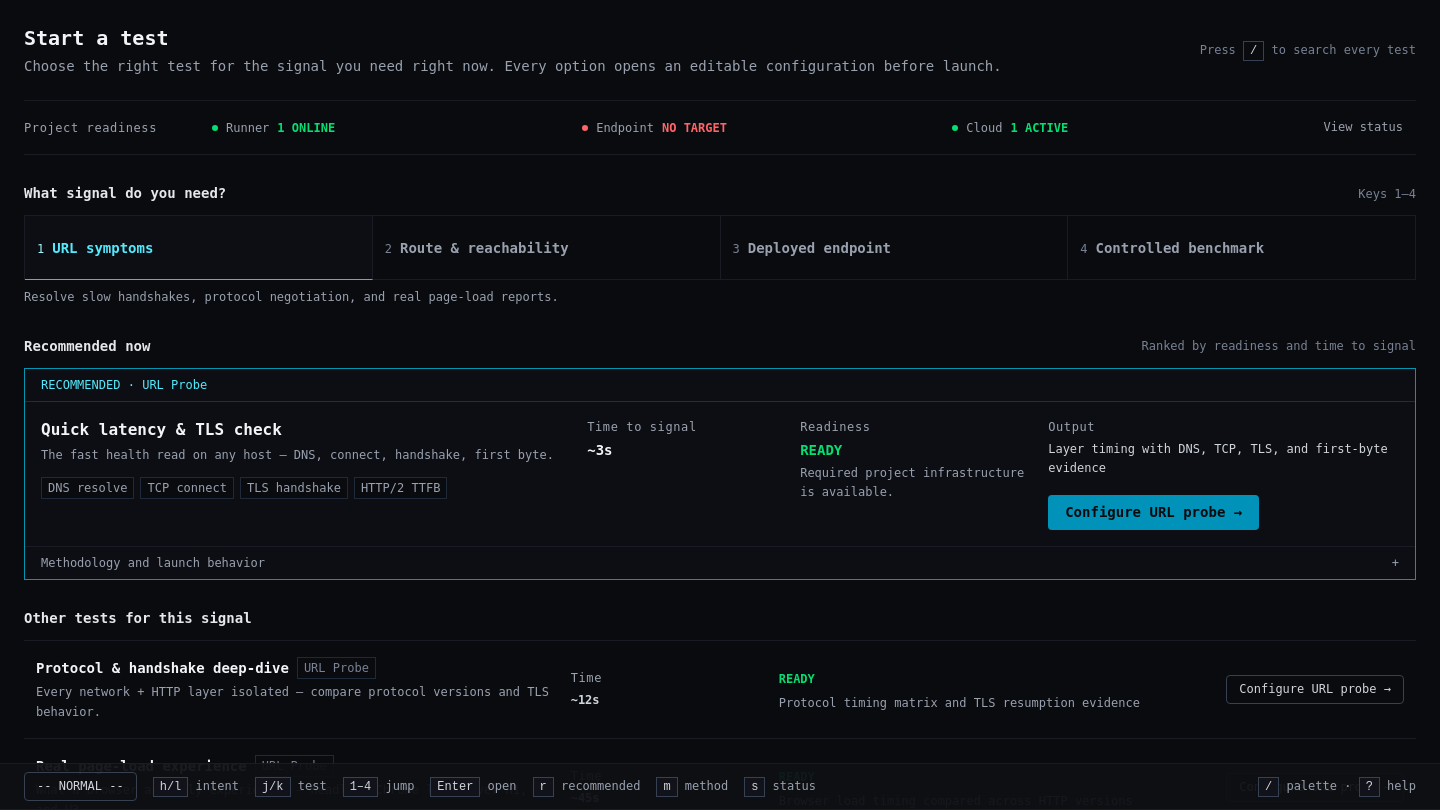
Test: ScenariosPage triage console › shows readiness details and exact repair actions
Click the tab "3Deployed endpoint" at (819, 248), box [720,216,1068,280]
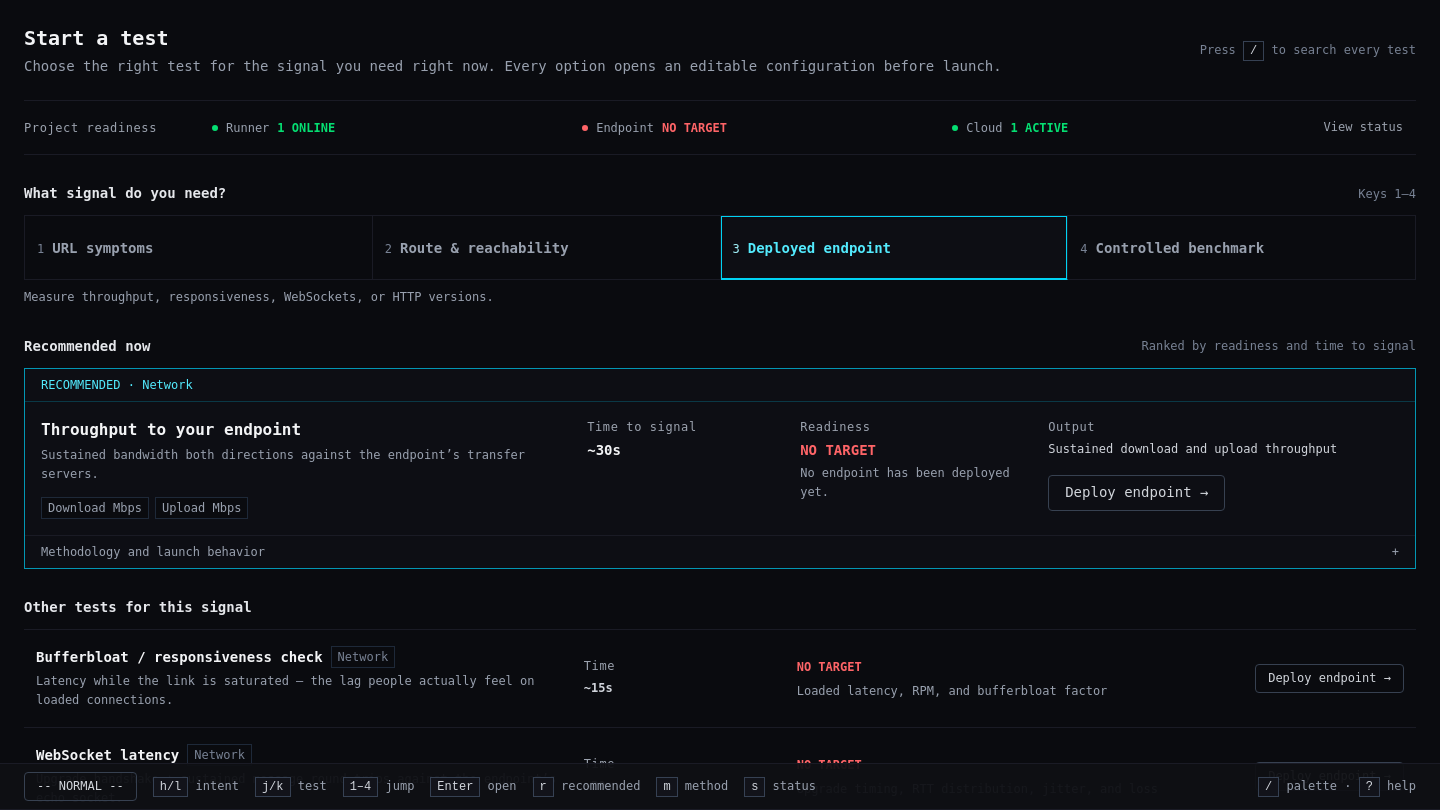
Result: the link "Deploy endpoint →" below "Sustained download and upload throughput" has attribute href="/projects/p-1/vms" at [1048,475,1226,510]
Click the button "View status" at (1363, 128), box [1310,113,1416,142]
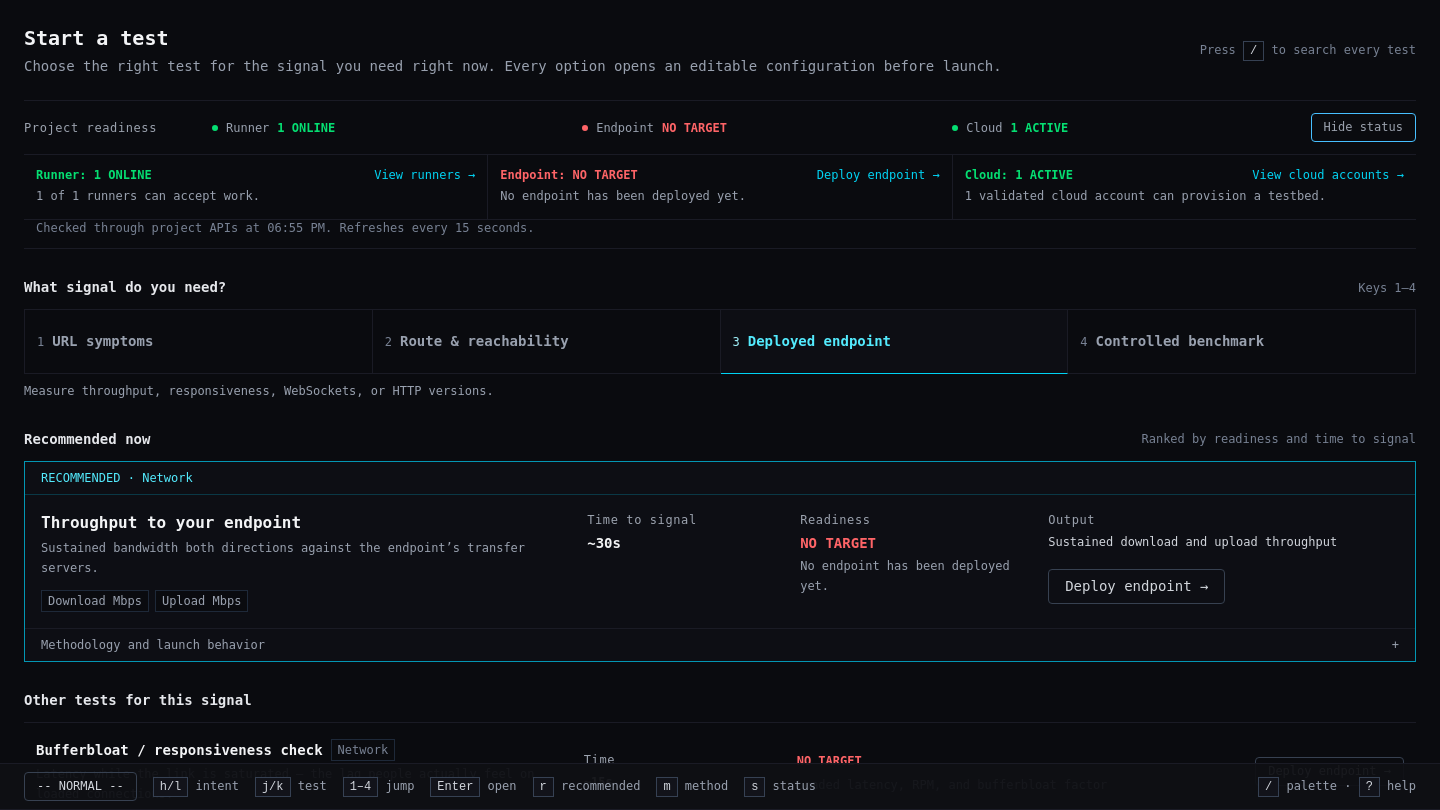
Result: the link "Deploy endpoint →" in the row of "View cloud accounts" is shown at [817,167,940,183]
